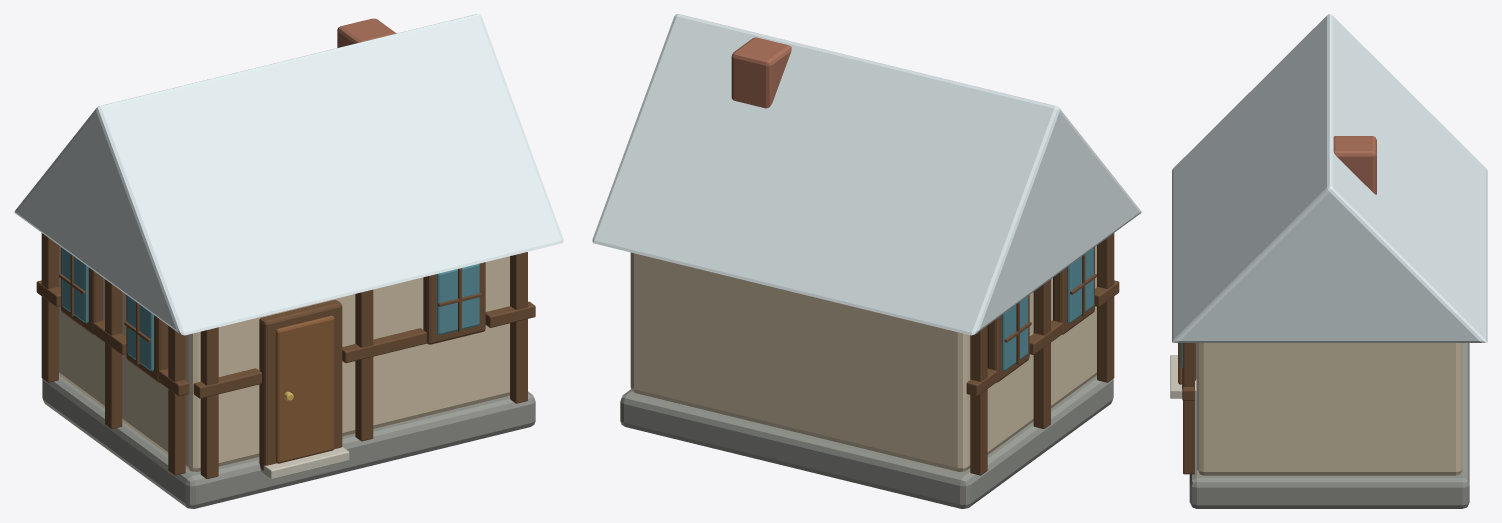
File: snowy-cottage-0.glb
3 renders of one model, left to right at view 1: azimuth 30°, elevation 25°; view 2: azimuth 150°, elevation 25°; view 3: azimuth 270°, elevation 25°, orthographic. The views are drawn at different scales.
Visible parts, largest first — view 1: Snow, Ivory plaster, Dark beams, Foundation stone, Door oak, Blue glass, Cut limestone, Chimney brick; view 2: Snow, Ivory plaster, Foundation stone, Dark beams, Chimney brick, Blue glass; view 3: Snow, Ivory plaster, Foundation stone, Dark beams, Chimney brick, Cut limestone.
Part boxes in pixels (x1,y1,x2,y2): Snow: (14, 14, 563, 335); Ivory plaster: (59, 245, 509, 471); Dark beams: (36, 233, 535, 478); Foundation stone: (42, 375, 535, 508); Door oak: (275, 315, 334, 463); Blue glass: (62, 248, 479, 371); Cut limestone: (258, 447, 349, 479); Chimney brick: (337, 18, 396, 47); Snow: (592, 14, 1141, 335); Ivory plaster: (630, 245, 1096, 471); Foundation stone: (620, 375, 1113, 508); Dark beams: (966, 233, 1119, 475); Chimney brick: (731, 37, 791, 108); Blue glass: (1002, 248, 1093, 371); Snow: (1172, 14, 1487, 342); Ivory plaster: (1197, 343, 1462, 475); Foundation stone: (1189, 343, 1469, 508); Dark beams: (1178, 343, 1196, 474); Chimney brick: (1333, 136, 1376, 194); Cut limestone: (1170, 355, 1196, 398).
Size of the model in its own units: 3.44 by 3.03 by 2.63.
